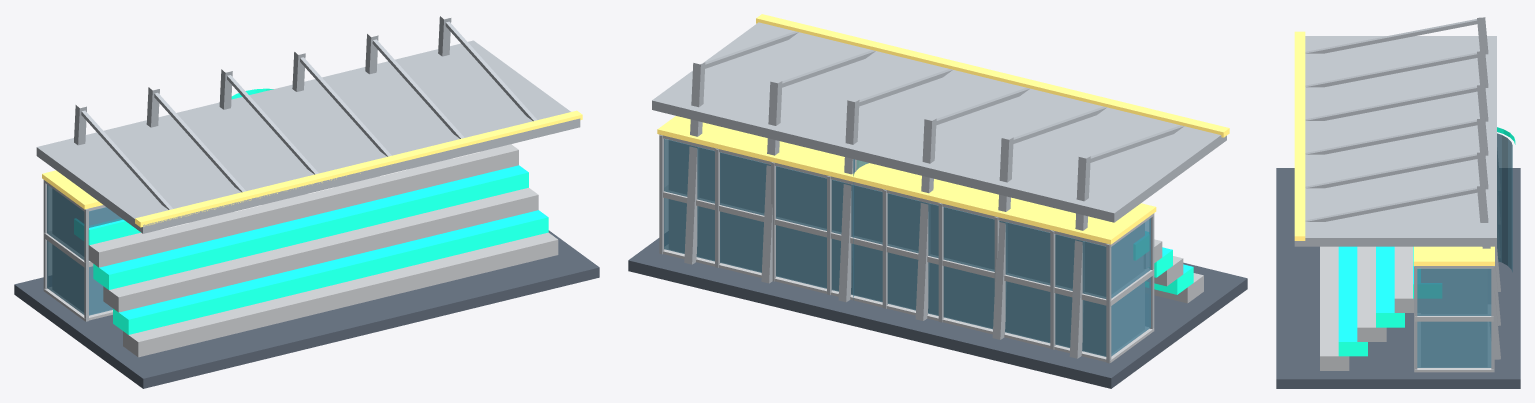
File: stadium_stand_expansion.master.glb
3 renders of one model, left to right at view 1: azimuth 30°, elevation 25°; view 2: azimuth 150°, elevation 25°; view 3: azimuth 270°, elevation 25°, orthographic. The views are drawn at different scales.
Parts seen in each view (by area): view 1: stadium_stand_expansion_master; view 2: stadium_stand_expansion_master; view 3: stadium_stand_expansion_master.
Part boxes in pixels (x1=…): stadium_stand_expansion_master: x1=14, y1=16, x2=599, y2=388; stadium_stand_expansion_master: x1=628, y1=14, x2=1247, y2=388; stadium_stand_expansion_master: x1=1276, y1=17, x2=1520, y2=388.
Size of the model in its own units: 3.76 by 1.52 by 1.84.
